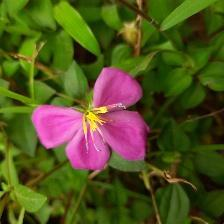malabar melastome: (31, 66, 159, 174)
